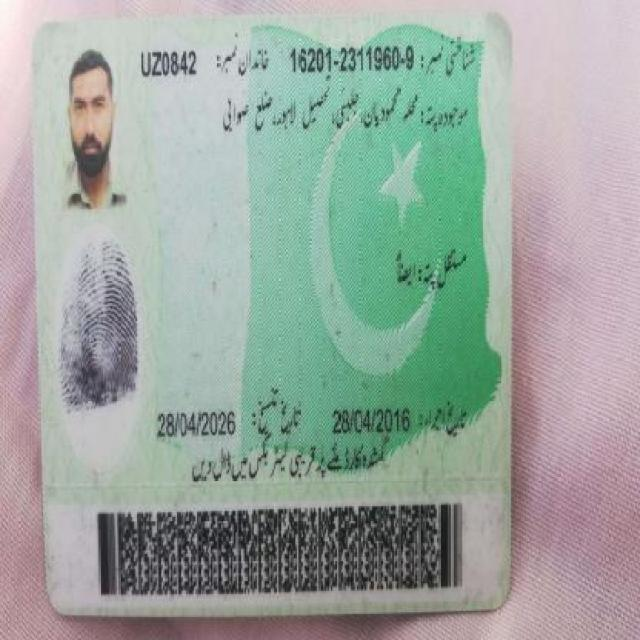Back: (26, 9, 517, 617)
